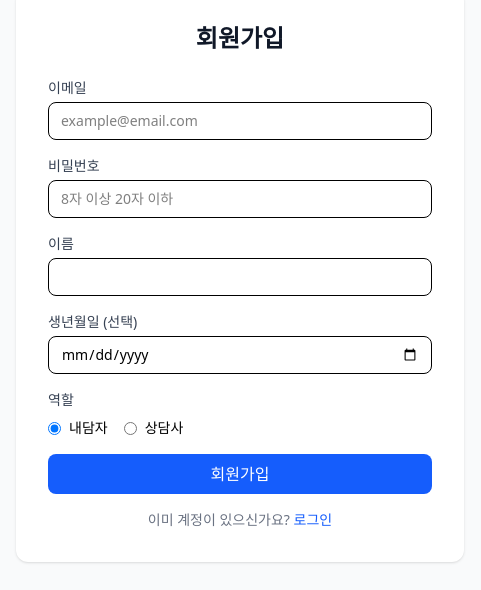
Test: SignupPage › 이메일 형식이 잘못되면 에러 메시지를 표시한다
Type "invalid-email" into the field labelled "이메일".
click(240, 121); type("invalid-email")  # box [48, 102, 432, 140]
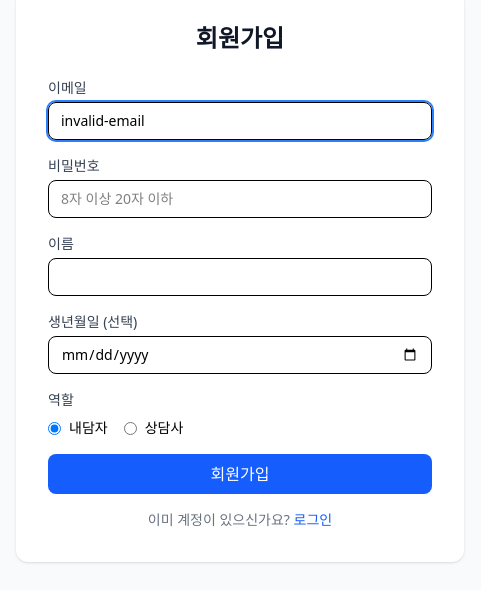
Type "password123" into the password field labelled "비밀번호".
click(240, 199); type("password123")  # box [48, 180, 432, 218]
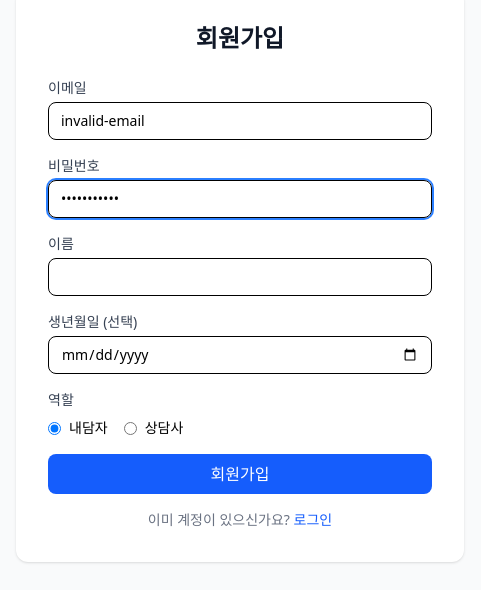
Type "홍길동" into the field labelled "이름".
click(240, 277); type("홍길동")  # box [48, 258, 432, 296]
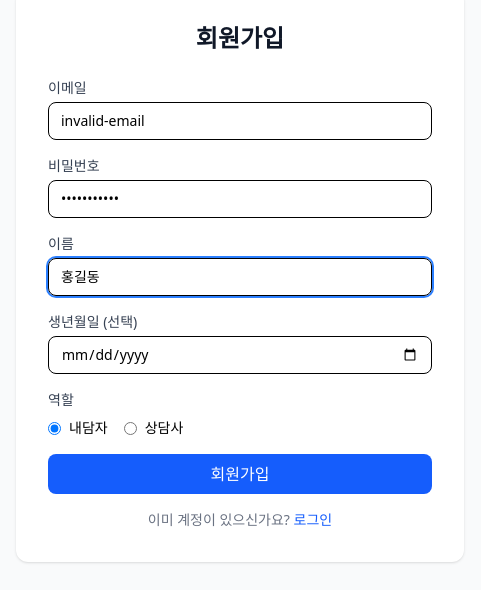
Click the button "회원가입".
click(240, 474)  # box [48, 454, 432, 494]
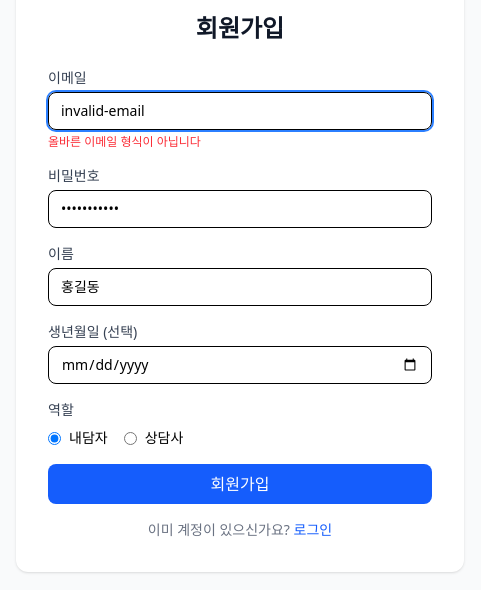
Result: the text "올바른 이메일 형식이 아닙니다" is shown at [48, 133, 201, 150]
